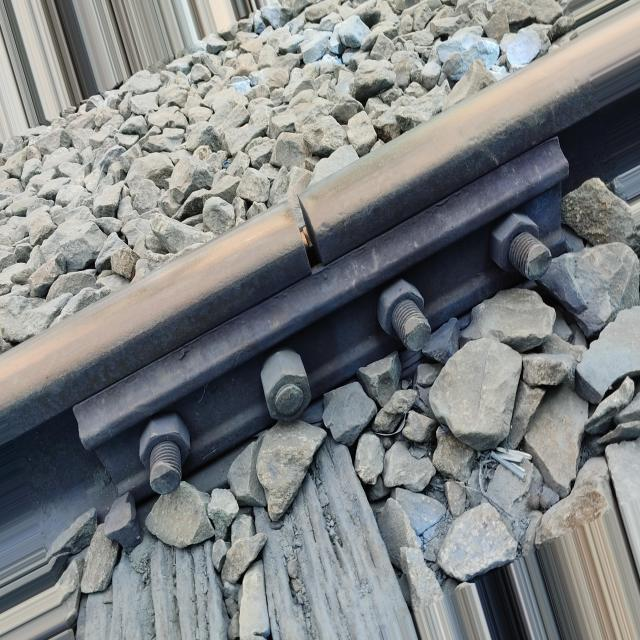Good Joint: (74, 136, 570, 515)
